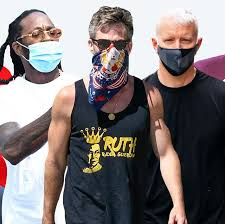with-mask: (83, 8, 140, 96), (4, 11, 65, 80), (149, 5, 203, 82)
